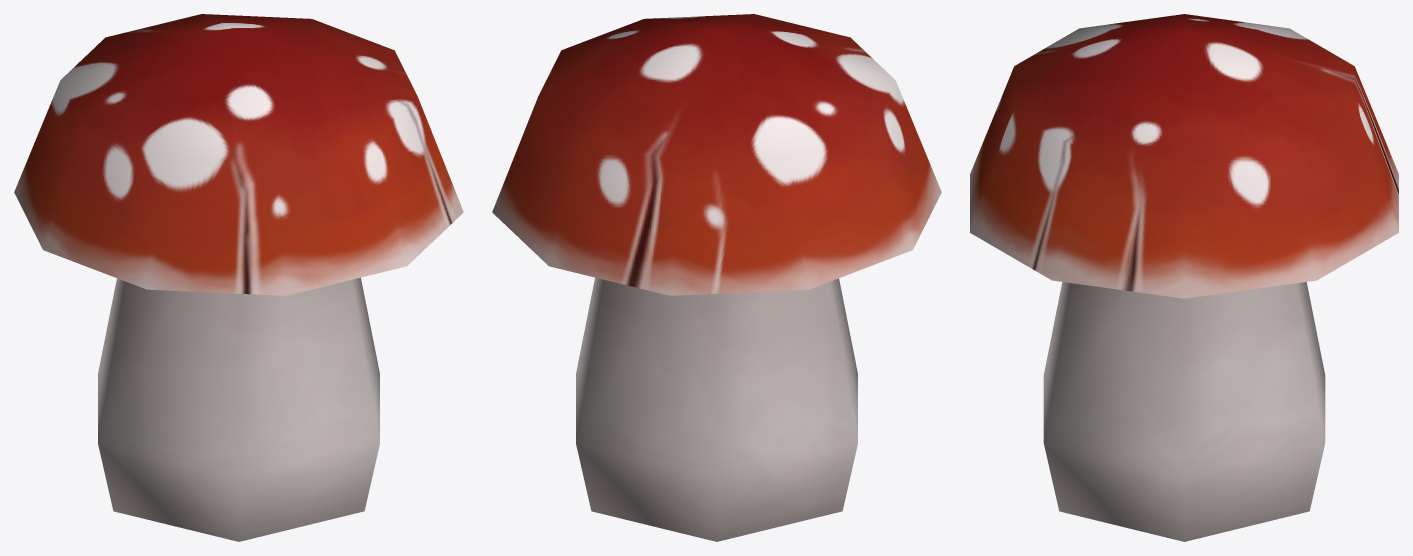
Rendered from Mushroom2B.fbx.
3 renders of one model, left to right at view 1: azimuth 30°, elevation 25°; view 2: azimuth 150°, elevation 25°; view 3: azimuth 270°, elevation 25°, orthographic.
Parts seen in each view (by area): view 1: polySurface98; view 2: polySurface98; view 3: polySurface98.
Part boxes in pixels (x1,y1,x2,y2): polySurface98: (14, 14, 463, 541); polySurface98: (492, 14, 941, 541); polySurface98: (970, 14, 1398, 541).
Size of the model in its own units: 21.83 by 23.97 by 20.76.
1 material, 1 textured.
